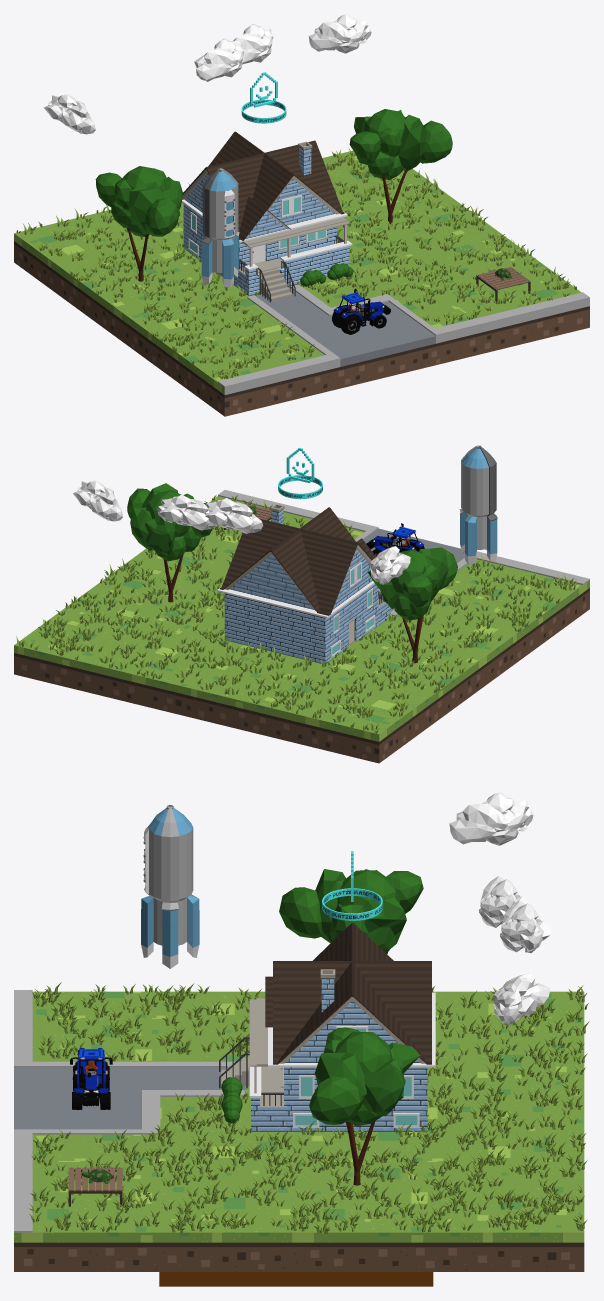
3 views of the same model, one above another, from view 1: azimuth 30°, elevation 25°; view 2: azimuth 150°, elevation 25°; view 3: azimuth 270°, elevation 25° (orthographic). The views are drawn at different scales.
Visible parts, largest first — view 1: Cube.006, Circle.012_Grass_0.192, Cube.547, Cube.007, tree, tree.001, OBJRANDOM_ROCKETSHIP, VEHICLES_TRACTOR, TYPE_PREMIUM, Cube.009; view 2: Cube.006, Cube.547, Circle.012_Grass_0.192, Cube.007, OBJRANDOM_ROCKETSHIP, tree.001, tree, TYPE_PREMIUM, VEHICLES_TRACTOR; view 3: Cube.006, Circle.012_Grass_0.192, Cube.547, tree, Cube.007, OBJRANDOM_ROCKETSHIP, tree.001, UNDERGROUND_ART_PIECE_VAN_GOGH, VEHICLES_TRACTOR, Cube.009, TYPE_PREMIUM.
Boxes of the visible parts, x1,y1,x2,y2 form: Cube.006: (14,150,589,416); Circle.012_Grass_0.192: (16,148,576,379); Cube.547: (181,131,352,302); Cube.007: (44,14,371,134); tree: (349,109,452,224); tree.001: (95,166,182,281); OBJRANDOM_ROCKETSHIP: (201,168,239,288); VEHICLES_TRACTOR: (332,288,390,334); TYPE_PREMIUM: (241,72,286,123); Cube.009: (476,267,530,301); Cube.006: (14,490,589,763); Cube.547: (217,504,390,664); Circle.012_Grass_0.192: (16,495,576,733); Cube.007: (73,480,410,584); OBJRANDOM_ROCKETSHIP: (459,445,497,565); tree.001: (367,547,457,663); tree: (127,483,212,602); TYPE_PREMIUM: (278,447,322,499); VEHICLES_TRACTOR: (366,523,424,556); Cube.006: (14,990,584,1271); Circle.012_Grass_0.192: (29,982,589,1233); Cube.547: (219,923,435,1131); tree: (309,1027,420,1185); Cube.007: (449,792,550,1024); OBJRANDOM_ROCKETSHIP: (141,805,199,968); tree.001: (279,869,423,953); UNDERGROUND_ART_PIECE_VAN_GOGH: (159,1272,433,1286); VEHICLES_TRACTOR: (70,1048,112,1109); Cube.009: (68,1167,122,1206); TYPE_PREMIUM: (322,851,382,920).
Bounding box in the file's own units: 4071 × 2426 × 4040.
39 materials, 6 textured.
